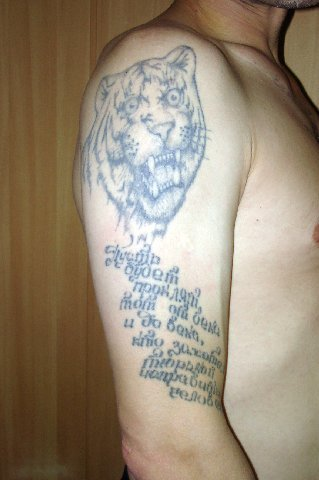tatu3_bukva: (100, 244, 226, 413)
tatu5_tigr: (81, 43, 210, 249)
